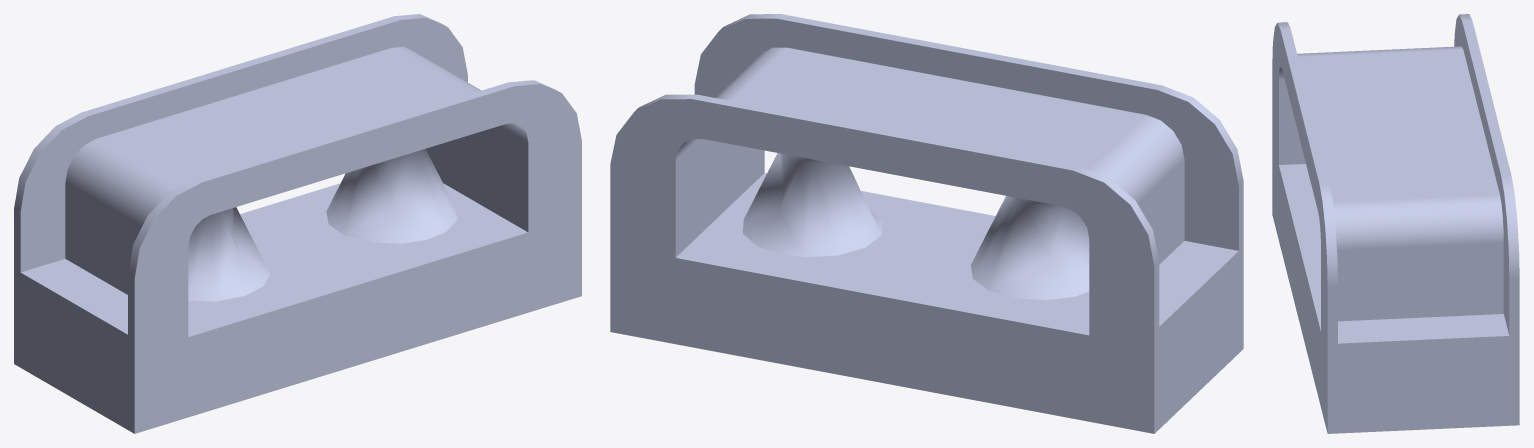
The picture shows the model from 3 angles, left to right: view 1: azimuth 30°, elevation 25°; view 2: azimuth 150°, elevation 25°; view 3: azimuth 270°, elevation 25°; orthographic projection. The views are drawn at different scales.
Visible parts, largest first — view 1: NAUO56, NAUO59, NAUO58; view 2: NAUO56, NAUO57, NAUO58; view 3: NAUO56, NAUO60, NAUO59.
Boxes of the visible parts, bbox=[...] form: NAUO56: bbox=[14, 14, 581, 358]; NAUO59: bbox=[139, 222, 577, 432]; NAUO58: bbox=[14, 289, 138, 433]; NAUO56: bbox=[610, 14, 1243, 352]; NAUO57: bbox=[615, 252, 1148, 432]; NAUO58: bbox=[1149, 268, 1243, 433]; NAUO56: bbox=[1272, 14, 1519, 362]; NAUO60: bbox=[1327, 354, 1519, 433]; NAUO59: bbox=[1272, 146, 1326, 430].
Size of the model in its own units: 1.03 by 0.46 by 0.474.
